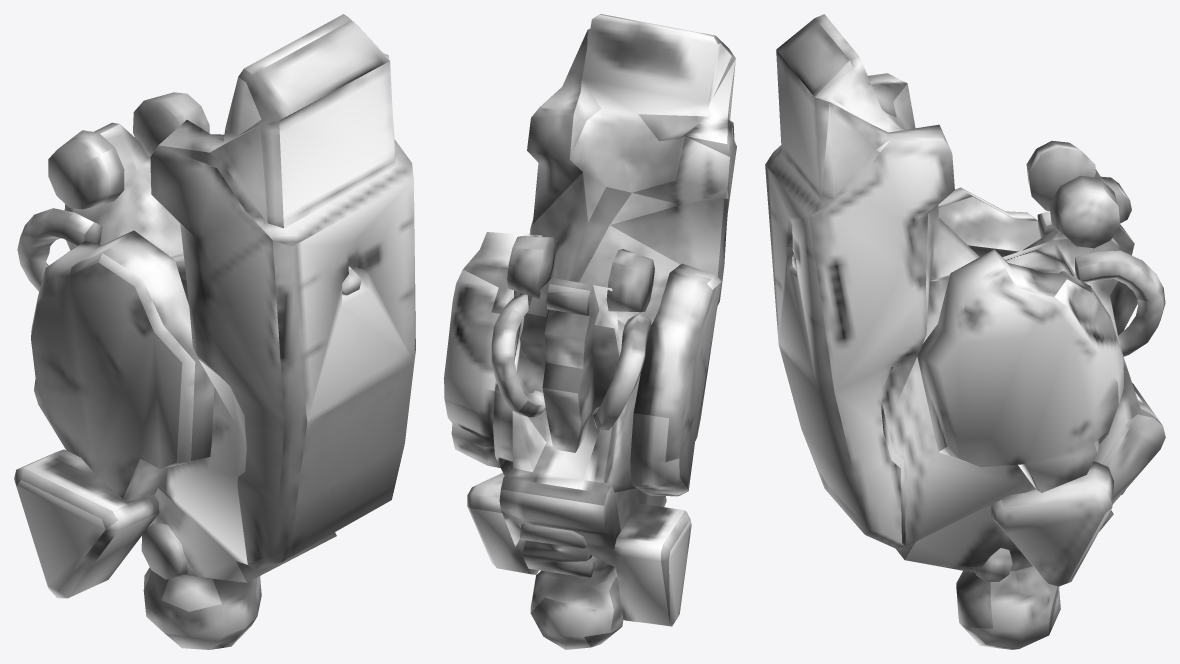
The model's file is l_shin.glb.
3 renders of one model, left to right at view 1: azimuth 30°, elevation 25°; view 2: azimuth 150°, elevation 25°; view 3: azimuth 270°, elevation 25°, orthographic. The views are drawn at different scales.
Visible parts, largest first — view 1: l_shin; view 2: l_shin; view 3: l_shin.
Boxes of the visible parts, x1,y1,x2,y2 form: l_shin: (14,14,415,649); l_shin: (444,14,736,649); l_shin: (765,14,1165,649).
Bounding box in the file's own units: 0.5998 × 1.41 × 0.8307.
3 materials, 3 textured.
